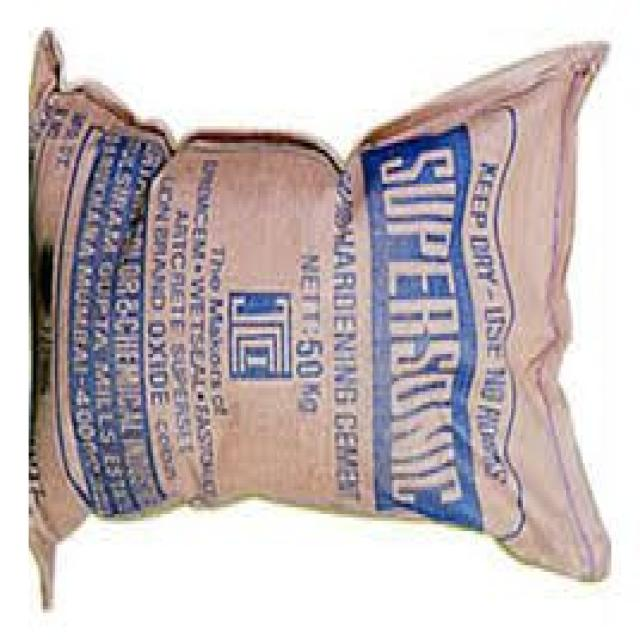KantongSemen: (24, 24, 611, 609)
